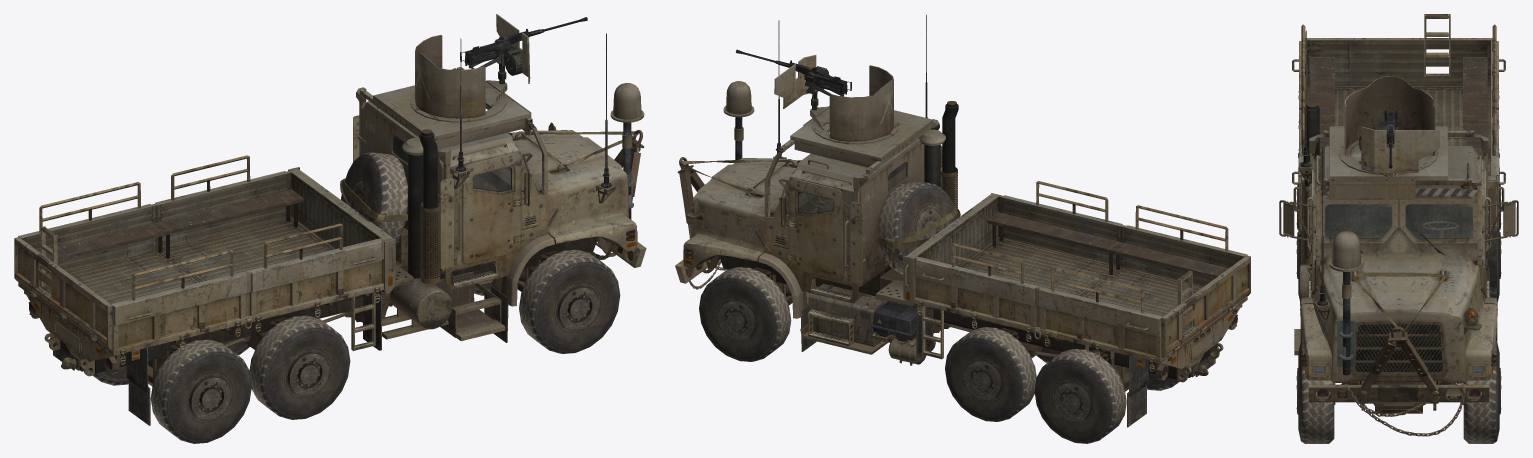
The model's file is oshkosh_mtvr_scaled.glb.
The picture shows the model from 3 angles, left to right: view 1: azimuth 30°, elevation 25°; view 2: azimuth 150°, elevation 25°; view 3: azimuth 270°, elevation 25°; orthographic projection. The views are drawn at different scales.
Visible parts, largest first — view 1: vehicle_mk23_truck_iw6_LOD_0; view 2: vehicle_mk23_truck_iw6_LOD_0; view 3: vehicle_mk23_truck_iw6_LOD_0.
Boxes of the visible parts, left/top/right/bottom form: vehicle_mk23_truck_iw6_LOD_0: left=14, top=14, right=646, bottom=443; vehicle_mk23_truck_iw6_LOD_0: left=675, top=14, right=1250, bottom=443; vehicle_mk23_truck_iw6_LOD_0: left=1279, top=14, right=1518, bottom=443.
Size of the model in its own units: 10.73 by 6.05 by 3.73.
8 materials, 8 textured.
